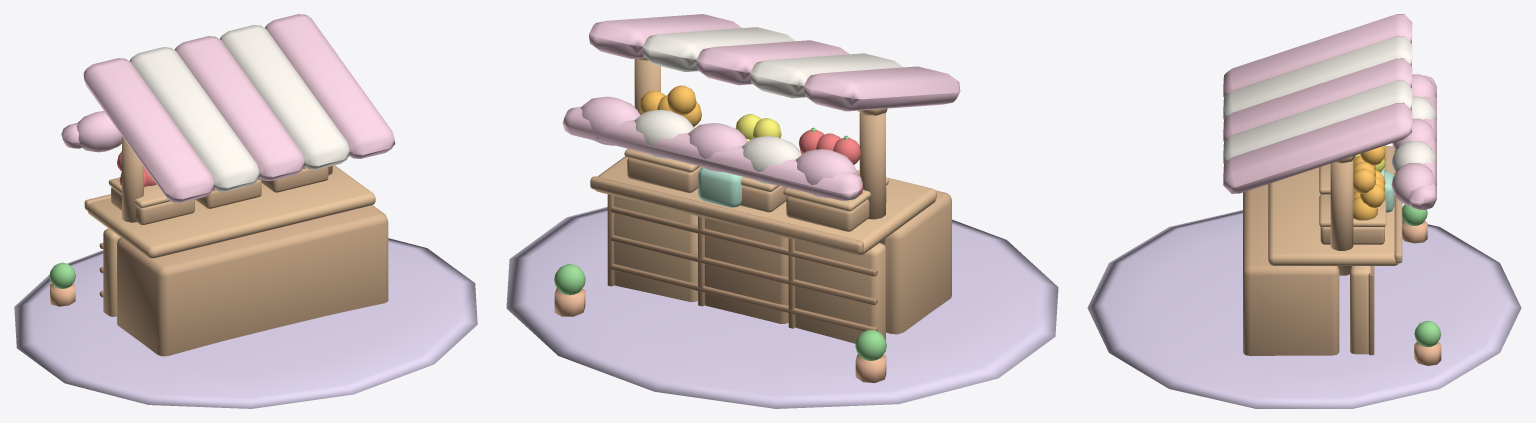
The model's file is cozy_market_stall_A.glb.
3 views of the same model, side by side, from view 1: azimuth 30°, elevation 25°; view 2: azimuth 150°, elevation 25°; view 3: azimuth 270°, elevation 25° (orthographic). The views are drawn at different scales.
Visible parts, largest first — view 1: Pad, Rear, Deck, Awn0, Awn1, Awn2, Awn3, Awn4, Scallop0, Post-0.82, Face0, Crate0 (+5 smaller); view 2: Pad, Rear, Face0, Valance, Face2, Face1, Awn0, Deck, DeckLip, Awn4, Awn3, Awn1 (+25 smaller); view 3: Pad, Rear, Awn4, Deck, Awn0, Awn1, Awn3, Awn2, Post0.82, Face2, Scallop4, Valance (+15 smaller).
Boxes of the visible parts, x1,y1,x2,y2 form: Pad: (14,238,477,408); Rear: (117,205,388,356); Deck: (87,165,375,258); Awn0: (83,58,214,202); Awn1: (129,47,259,191); Awn2: (174,36,304,180); Awn3: (219,25,349,169); Awn4: (265,14,395,158); Scallop0: (76,111,121,152); Post-0.82: (122,136,143,222); Face0: (103,228,120,316); Crate0: (111,187,194,224); Pad: (506,207,1058,408); Rear: (885,190,951,334); Face0: (795,240,885,343); Valance: (562,106,862,200); Face2: (614,196,697,301); Face1: (705,218,788,323); Awn0: (803,66,960,111); Deck: (594,156,936,255); DeckLip: (590,176,863,253); Awn4: (589,14,741,58); Awn3: (642,27,795,71); Awn1: (750,53,902,98); Pad: (1087,210,1521,408); Rear: (1243,184,1339,356); Awn4: (1223,102,1412,193); Deck: (1268,146,1398,265); Awn0: (1223,14,1412,96); Awn1: (1223,36,1412,119); Awn3: (1223,80,1412,163); Awn2: (1223,58,1412,141); Post0.82: (1330,160,1353,275); Face2: (1350,266,1371,354); Scallop4: (1391,163,1436,206); Valance: (1408,75,1436,209).
Size of the model in its own units: 3.57 by 2.09 by 3.24.
